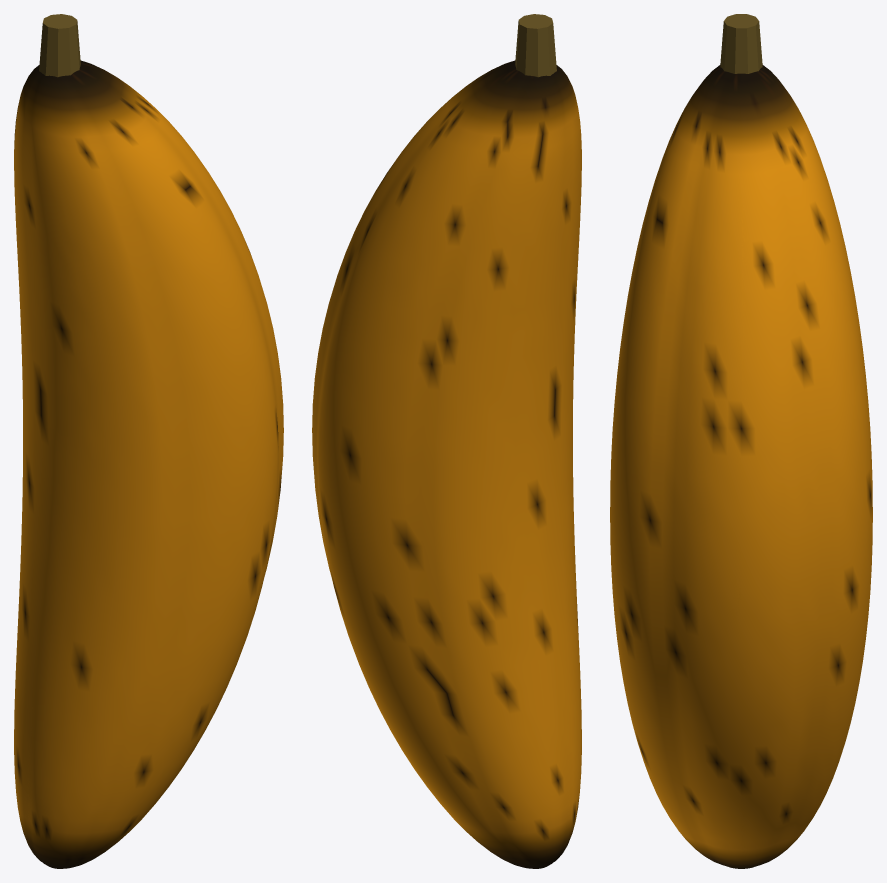
The model's file is figue-sucree.glb.
The picture shows the model from 3 angles, left to right: view 1: azimuth 30°, elevation 25°; view 2: azimuth 150°, elevation 25°; view 3: azimuth 270°, elevation 25°; orthographic projection.
Visible parts, largest first — view 1: entier_peau, moitie_B_peau, entier_extra0, moitie_A_peau; view 2: entier_peau, moitie_A_peau, entier_extra0, moitie_B_peau; view 3: entier_peau, moitie_A_peau, moitie_B_peau, entier_extra0.
Boxes of the visible parts, x1=… form: entier_peau: x1=14, y1=60, x2=283, y2=868; moitie_B_peau: x1=28, y1=63, x2=283, y2=868; entier_extra0: x1=39, y1=14, x2=80, y2=77; moitie_A_peau: x1=14, y1=61, x2=103, y2=847; entier_peau: x1=312, y1=60, x2=581, y2=868; moitie_A_peau: x1=312, y1=63, x2=567, y2=868; entier_extra0: x1=515, y1=14, x2=556, y2=77; moitie_B_peau: x1=505, y1=63, x2=581, y2=856; entier_peau: x1=610, y1=65, x2=872, y2=868; moitie_A_peau: x1=741, y1=67, x2=872, y2=867; moitie_B_peau: x1=610, y1=65, x2=741, y2=867; entier_extra0: x1=720, y1=14, x2=762, y2=73.
Size of the model in its own units: 0.6359 by 2.1 by 0.5935.
